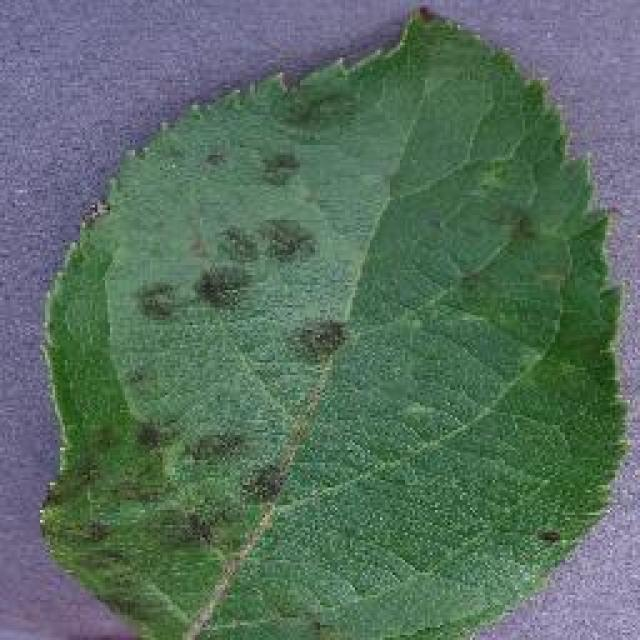apple scab disease: (35, 2, 630, 638)
